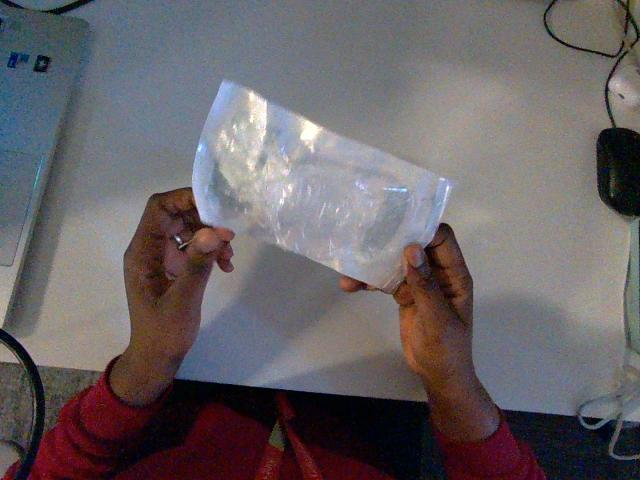gallipot: (193, 81, 451, 291)
